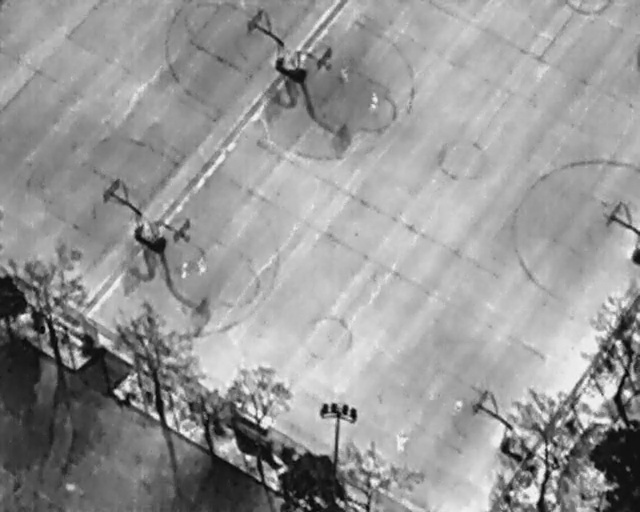Person: (396, 428, 407, 451), (340, 61, 349, 82), (180, 258, 189, 277), (197, 255, 206, 274), (371, 89, 378, 112), (455, 397, 463, 412)
